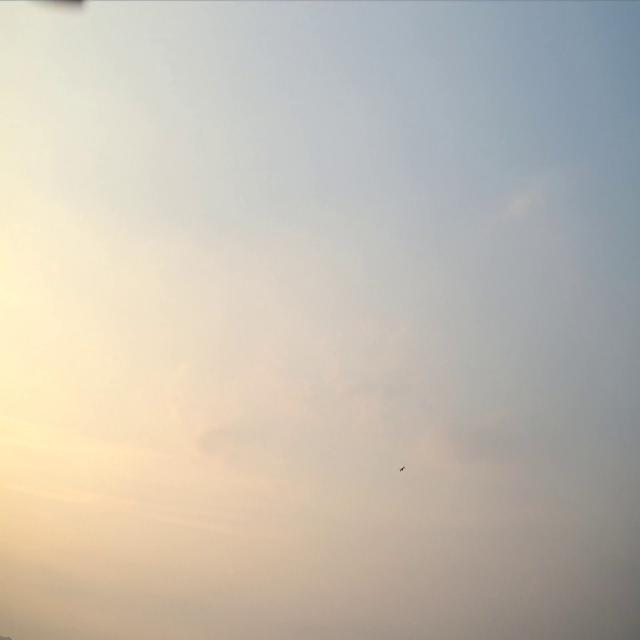UAV: (400, 464, 406, 472)
